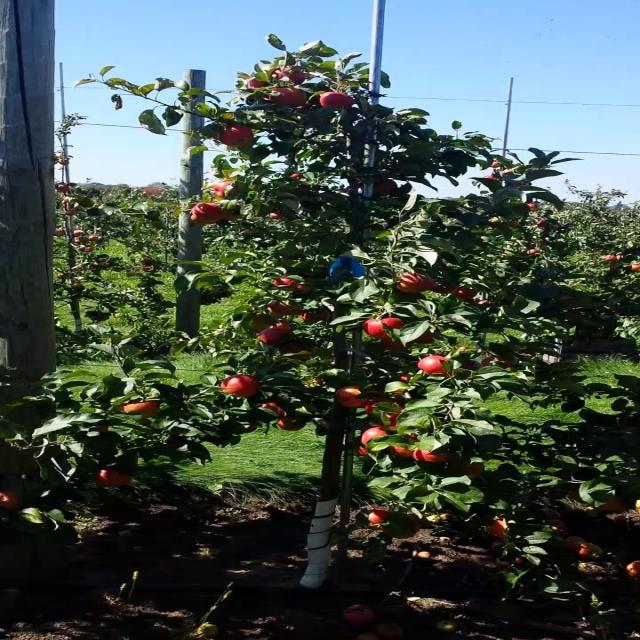apple: (220, 376, 261, 398), (369, 400, 405, 424), (397, 272, 434, 295), (390, 516, 423, 540), (120, 400, 164, 418), (269, 88, 306, 108), (369, 320, 407, 339), (220, 128, 256, 148), (99, 468, 133, 488), (412, 448, 453, 464), (319, 92, 356, 109), (340, 388, 370, 408), (419, 356, 448, 376), (191, 204, 220, 224), (284, 344, 318, 360), (269, 300, 302, 316), (276, 68, 308, 84), (383, 408, 405, 431), (369, 400, 405, 413), (433, 280, 462, 296), (362, 428, 389, 445), (262, 328, 286, 347), (383, 336, 409, 352), (596, 500, 626, 513), (276, 420, 306, 432), (454, 288, 480, 301), (461, 464, 485, 478), (376, 180, 398, 195), (369, 512, 391, 526), (291, 280, 313, 294), (490, 520, 507, 538), (276, 280, 299, 293), (305, 312, 332, 323), (262, 404, 286, 416), (419, 332, 441, 344), (255, 316, 272, 331), (6, 492, 21, 508), (390, 448, 412, 457), (220, 212, 242, 221), (461, 360, 478, 371), (468, 300, 491, 308), (241, 424, 261, 433), (483, 356, 498, 368), (248, 80, 265, 89), (276, 324, 292, 333), (269, 212, 286, 220), (99, 424, 112, 432), (390, 392, 405, 397), (362, 448, 370, 456)
